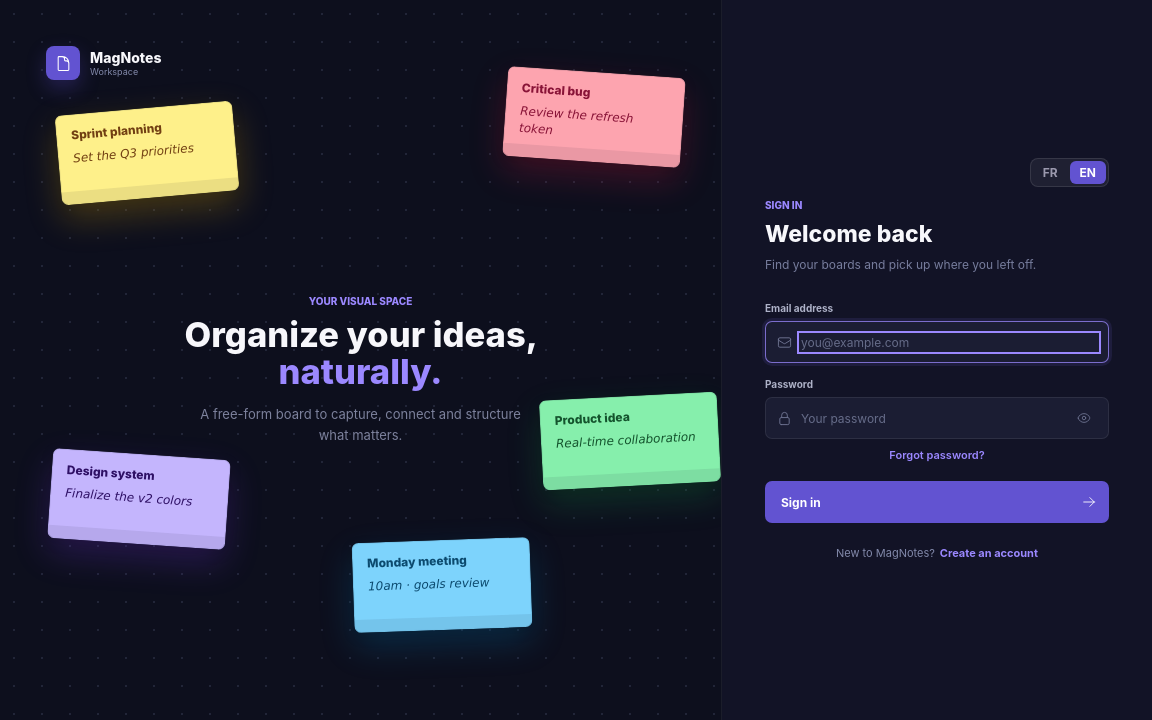
LoginForm analytics › validates the email before the password in English signup
Click the button "Create an account": x=989, y=554 [940, 546, 1038, 562]
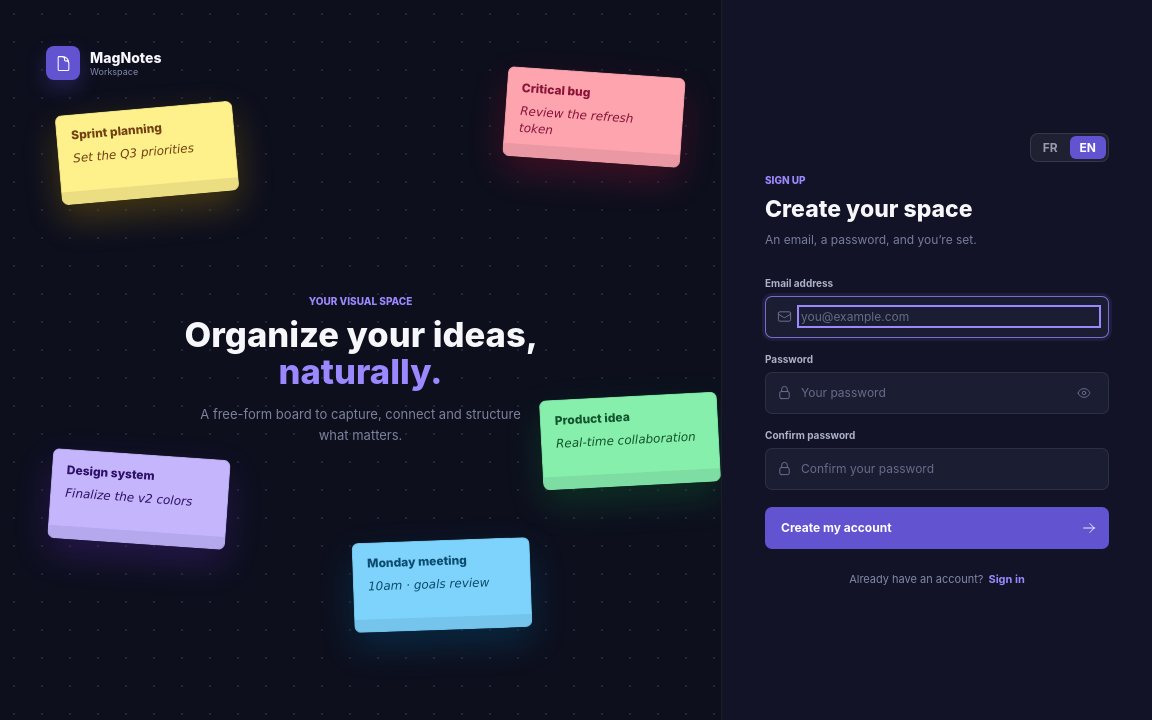
Click the button "Create my account": x=836, y=528 [765, 507, 1109, 549]
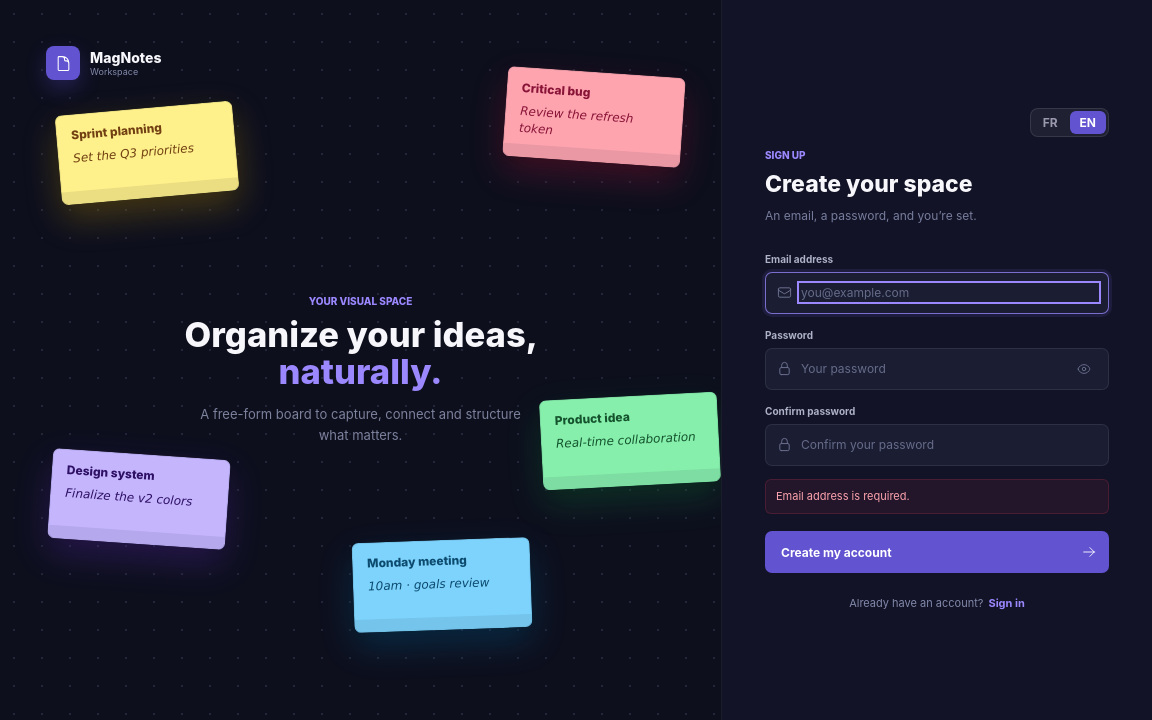
expect the message reads "Email address is required.": met, box [776, 489, 910, 503]
